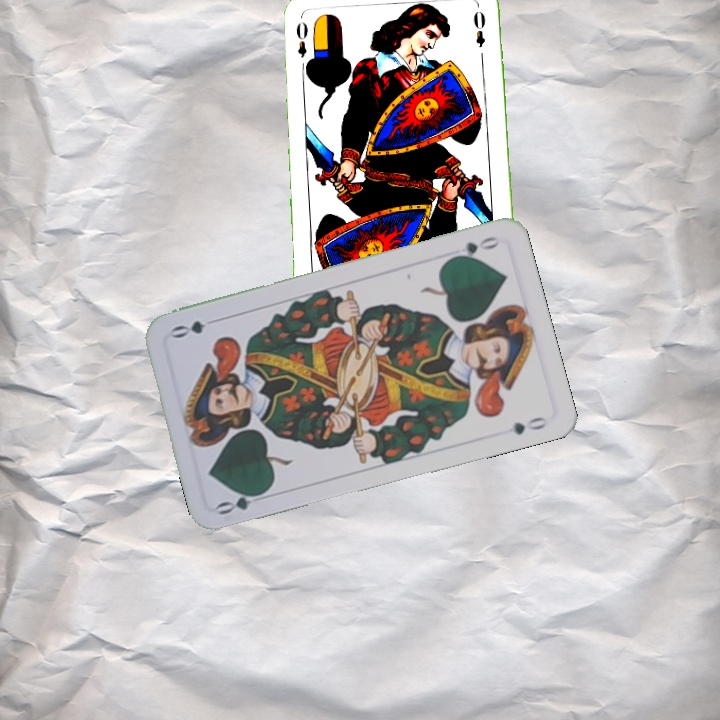EO: (292, 17, 312, 75)
GO: (213, 486, 272, 518), (446, 232, 502, 262)
